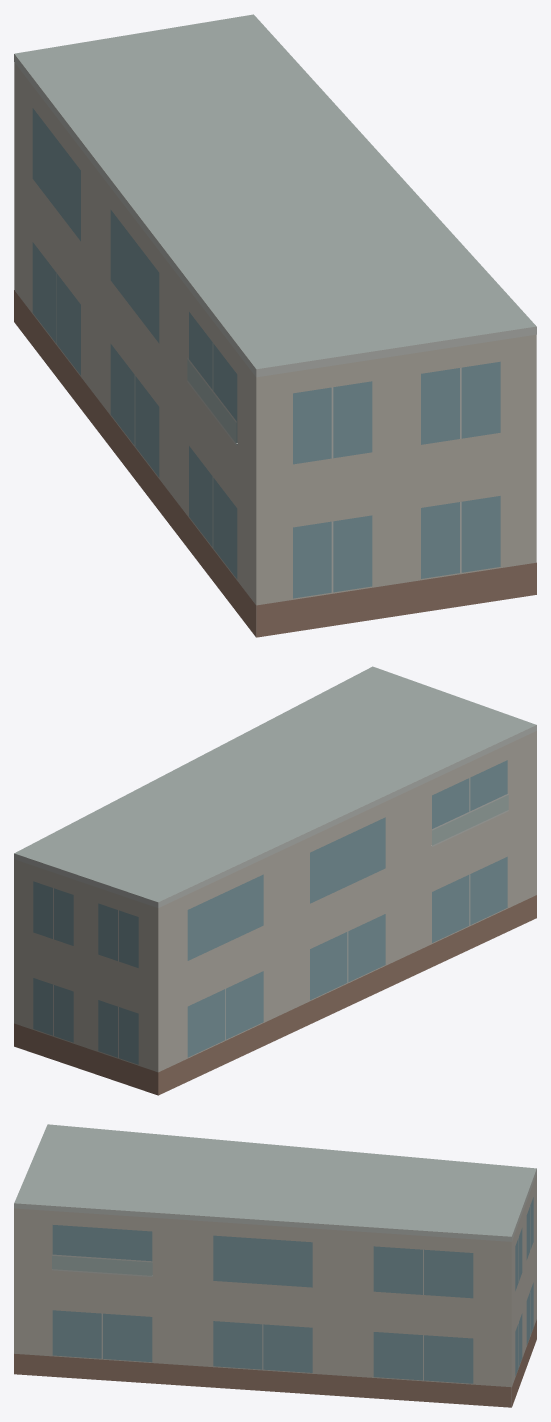
Rendered from survey-upis-32701197.glb.
The picture shows the model from 3 angles, top to bottom: view 1: azimuth 30°, elevation 25°; view 2: azimuth 150°, elevation 25°; view 3: azimuth 270°, elevation 25°; orthographic projection. The views are drawn at different scales.
Visible parts, largest first — view 1: survey-upis-32701197.tmp; view 2: survey-upis-32701197.tmp; view 3: survey-upis-32701197.tmp.
Boxes of the visible parts, x1,y1,x2,y2 form: survey-upis-32701197.tmp: (14,14,536,637); survey-upis-32701197.tmp: (14,666,536,1095); survey-upis-32701197.tmp: (14,1124,536,1407).
Bounding box in the file's own units: 11.44 × 8.1 × 22.47.
